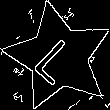L_NE: (30, 28, 87, 86)
